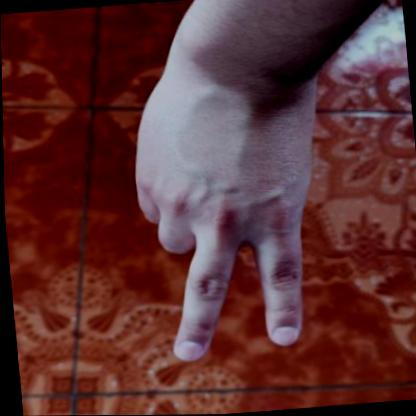N: (95, 58, 368, 379)
